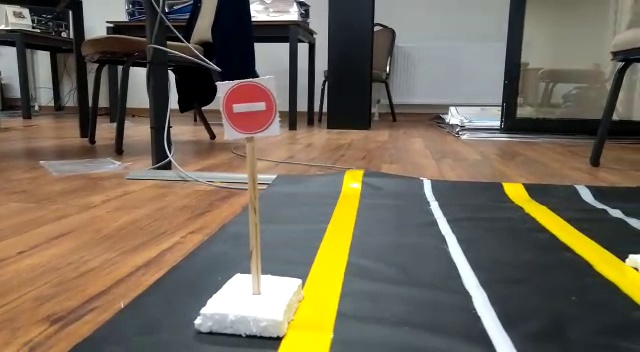girisi_olmayan_yol: (216, 74, 277, 139)
